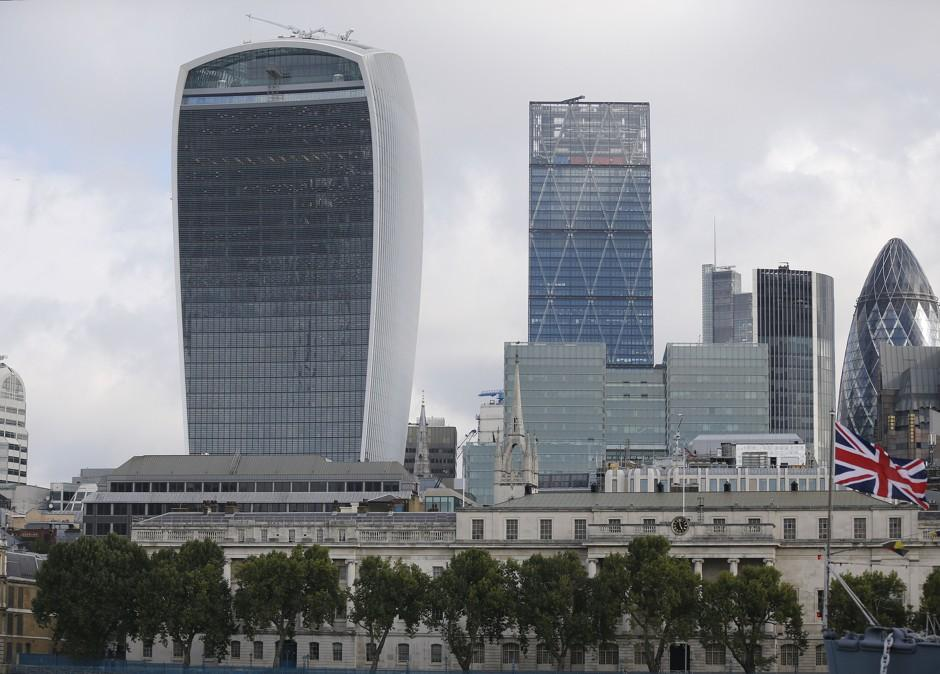Walkie talkie: (155, 25, 445, 452)
